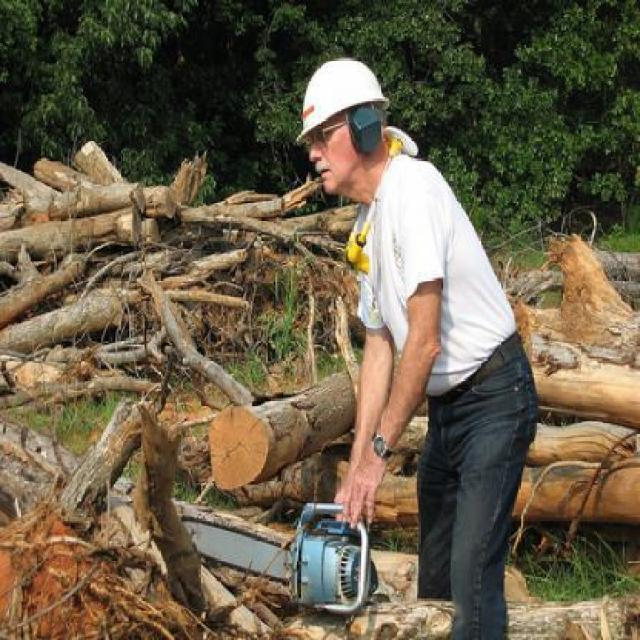Chainsaw: (183, 500, 379, 614)
